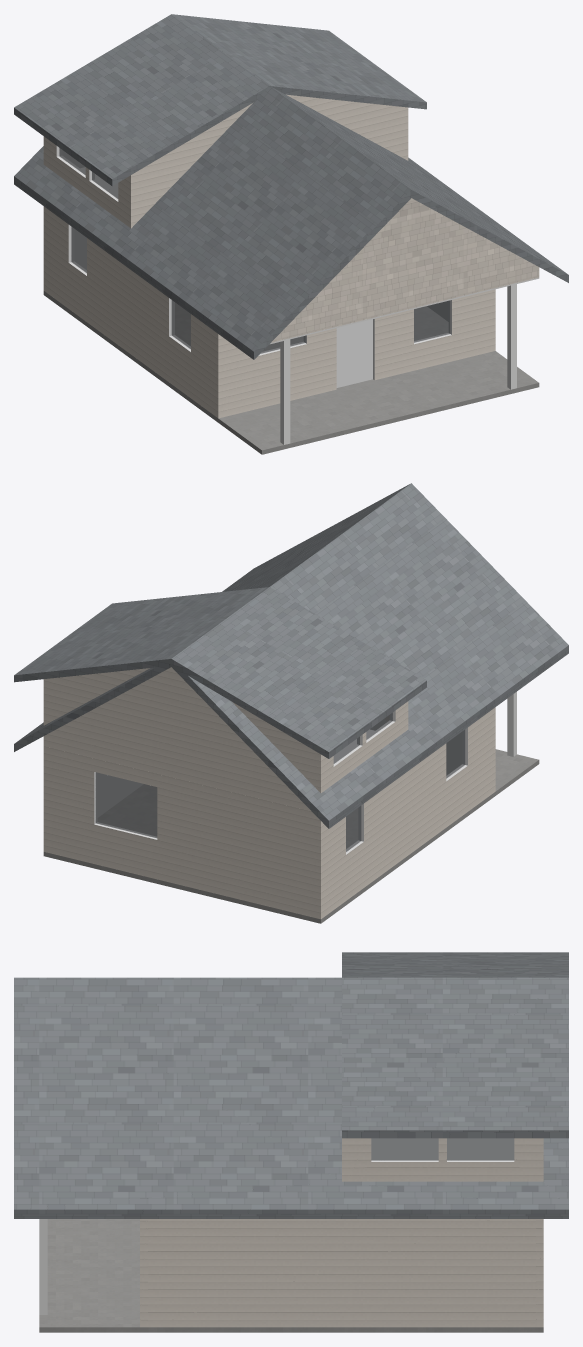
File: barn_cabin_524_lod1.glb
The picture shows the model from 3 angles, top to bottom: view 1: azimuth 30°, elevation 25°; view 2: azimuth 150°, elevation 25°; view 3: azimuth 270°, elevation 25°; orthographic projection. The views are drawn at different scales.
Parts seen in each view (by area): view 1: Roof_main, Roof_dormer_W, Gable_S_porch, Wall_S, Wall_W, Porch_slab, Roof_dormer_E, Dormer_cheek_E, Dormer_cheek_W, Floor_slab, Dormer_face_W, Door_D-FRONT.001 (+6 smaller); view 2: Roof_main, Wall_N, Roof_dormer_W, Gable_N, Wall_W, Roof_dormer_E, Floor_slab, Glazing_W-BED-EGRESS, Dormer_face_W, Porch_slab, Wall_E, Wall_S (+3 smaller); view 3: Roof_main, Wall_E, Roof_dormer_E, Porch_slab, Dormer_face_E, Roof_dormer_W, Loft_floor, Floor_slab, Glazing_W-LOFT-2_E, Glazing_W-LOFT-1_E, Wall_N, Wall_S (+1 smaller).
Boxes of the visible parts, x1,y1,x2,y2 form: Roof_main: (14, 86, 568, 359); Roof_dormer_W: (14, 14, 269, 185); Gable_S_porch: (271, 198, 539, 342); Wall_S: (215, 289, 495, 418); Wall_W: (47, 209, 214, 415); Porch_slab: (218, 351, 539, 454); Roof_dormer_E: (172, 14, 426, 109); Dormer_cheek_E: (286, 94, 408, 160); Dormer_cheek_W: (131, 103, 252, 228); Floor_slab: (43, 291, 448, 422); Dormer_face_W: (43, 137, 130, 228); Door_D-FRONT.001: (336, 319, 372, 387); Roof_main: (14, 483, 568, 828); Wall_N: (43, 746, 324, 919); Roof_dormer_W: (171, 587, 426, 758); Gable_N: (43, 667, 324, 811); Wall_W: (324, 710, 492, 916); Roof_dormer_E: (14, 587, 268, 682); Floor_slab: (43, 784, 495, 923); Glazing_W-BED-EGRESS: (95, 772, 157, 837); Dormer_face_W: (315, 701, 408, 792); Porch_slab: (495, 749, 539, 795); Wall_E: (98, 773, 143, 817); Wall_S: (374, 707, 495, 793); Roof_main: (14, 977, 568, 1218); Wall_E: (148, 1219, 535, 1327); Roof_dormer_E: (342, 977, 568, 1138); Porch_slab: (39, 1219, 139, 1332); Dormer_face_E: (342, 1138, 543, 1181); Roof_dormer_W: (342, 952, 568, 977); Loft_floor: (371, 1138, 513, 1158); Floor_slab: (140, 1327, 543, 1332); Glazing_W-LOFT-2_E: (371, 1138, 438, 1160); Glazing_W-LOFT-1_E: (447, 1138, 514, 1160); Wall_N: (536, 1219, 543, 1327); Wall_S: (140, 1219, 147, 1327).
Bounding box in the file's own units: 7.62 × 5.53 × 10.06.
Materials: 9 (4 with a texture image).
